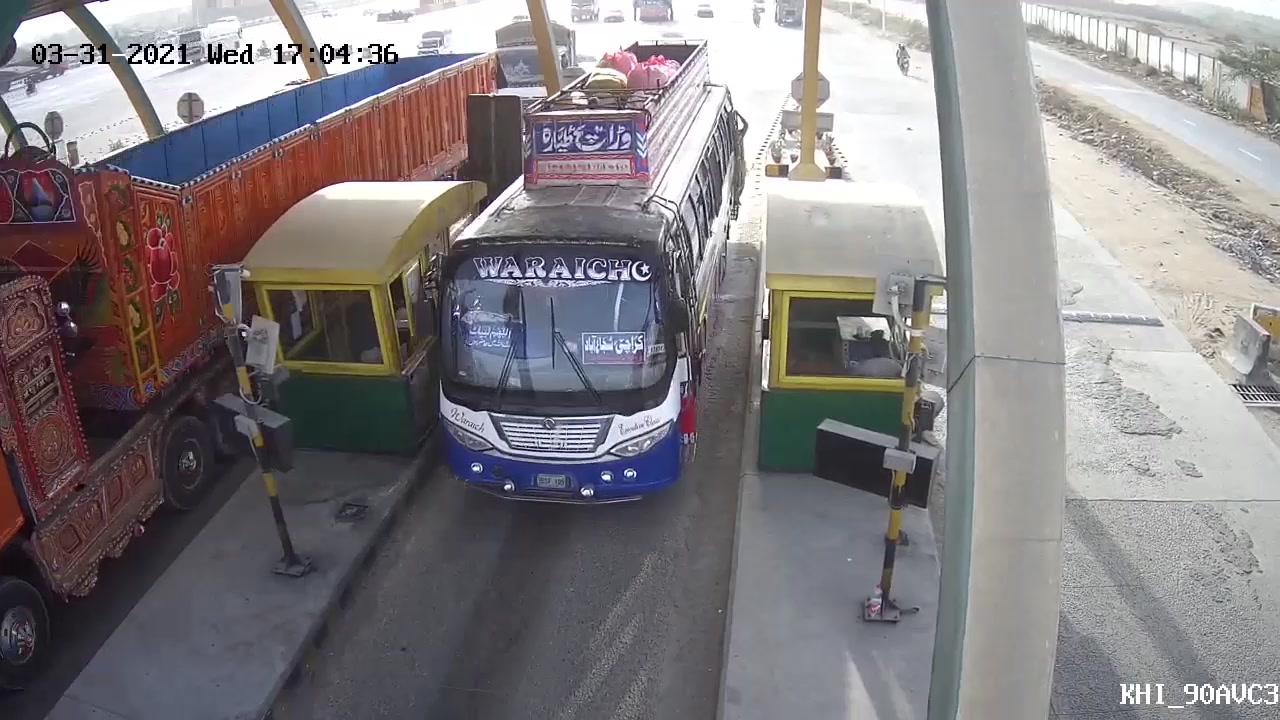F4: (412, 43, 752, 530)
